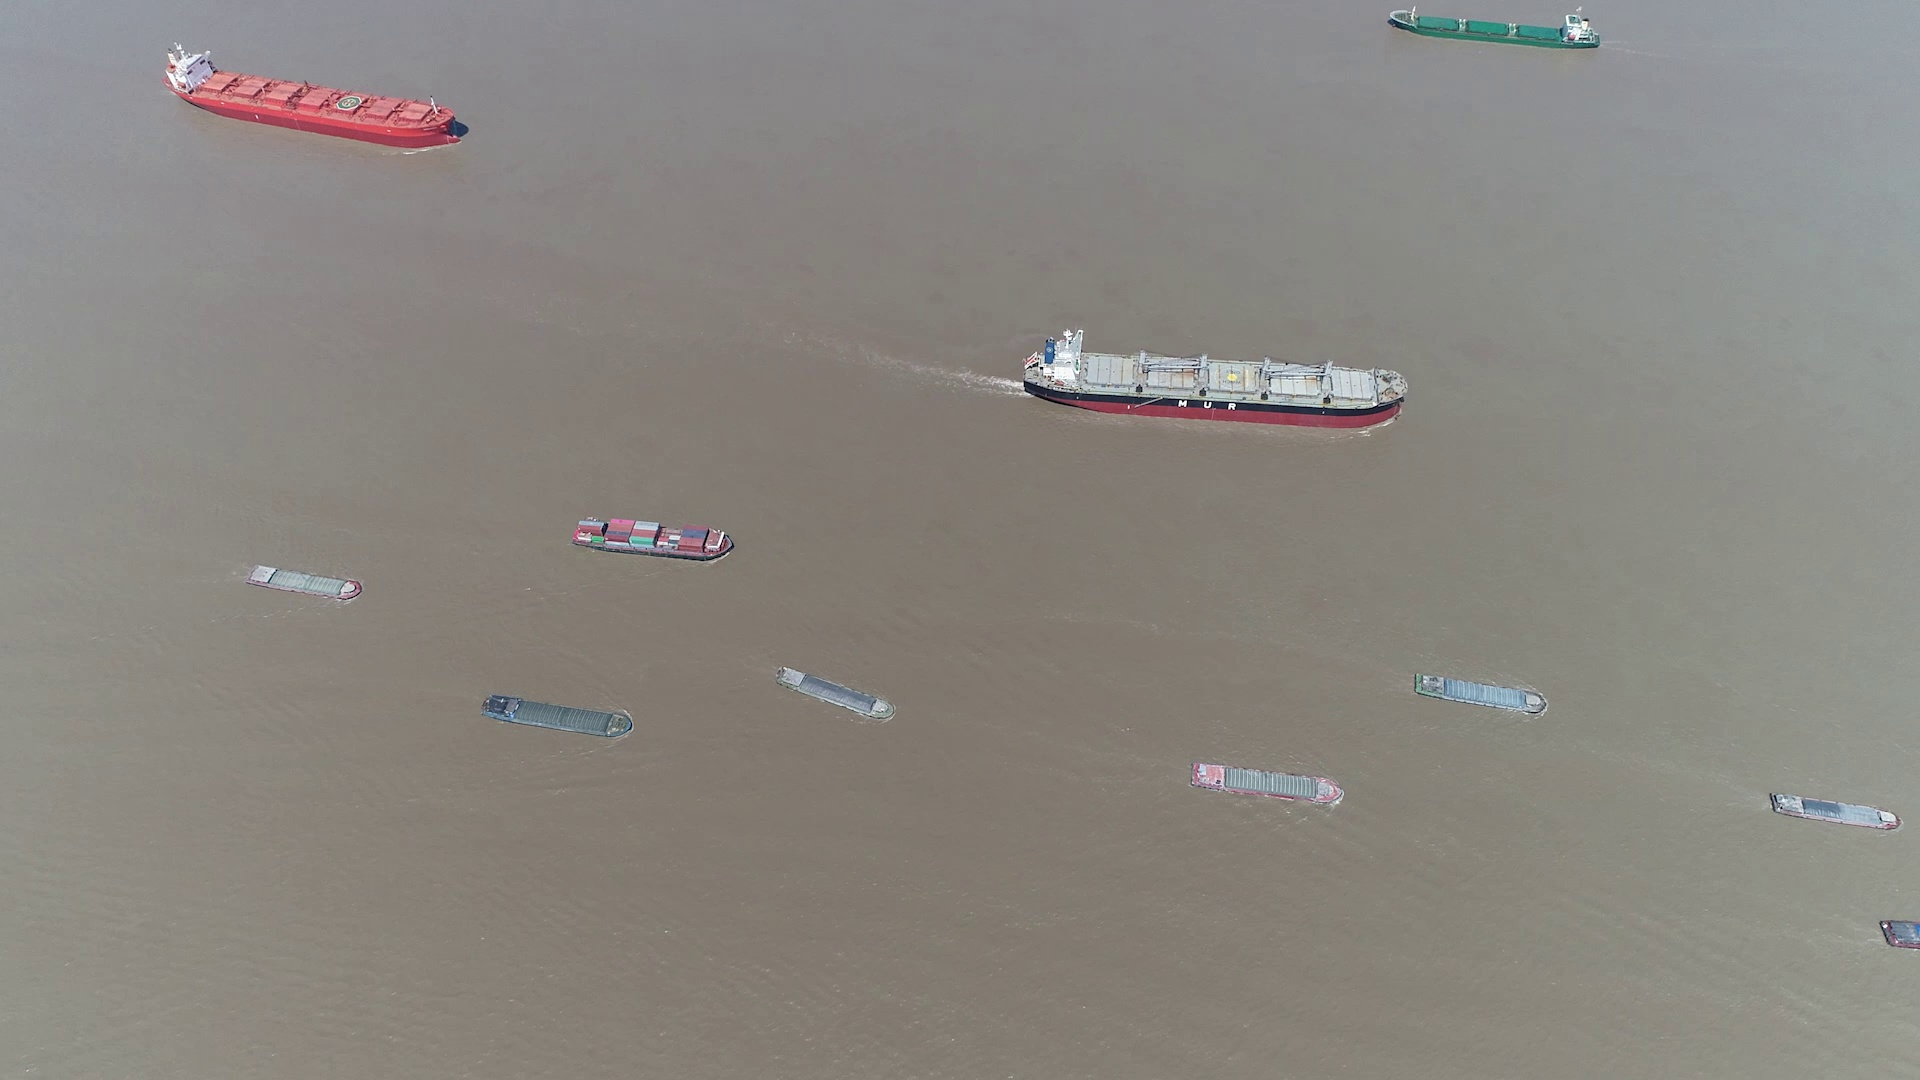ship: (1023, 331, 1408, 430), (161, 42, 465, 148), (1387, 9, 1600, 51), (570, 516, 735, 560), (483, 695, 633, 738), (777, 666, 894, 721), (1192, 764, 1342, 806), (1414, 674, 1547, 715), (1768, 793, 1900, 829), (244, 564, 363, 600), (1880, 920, 1920, 951)
